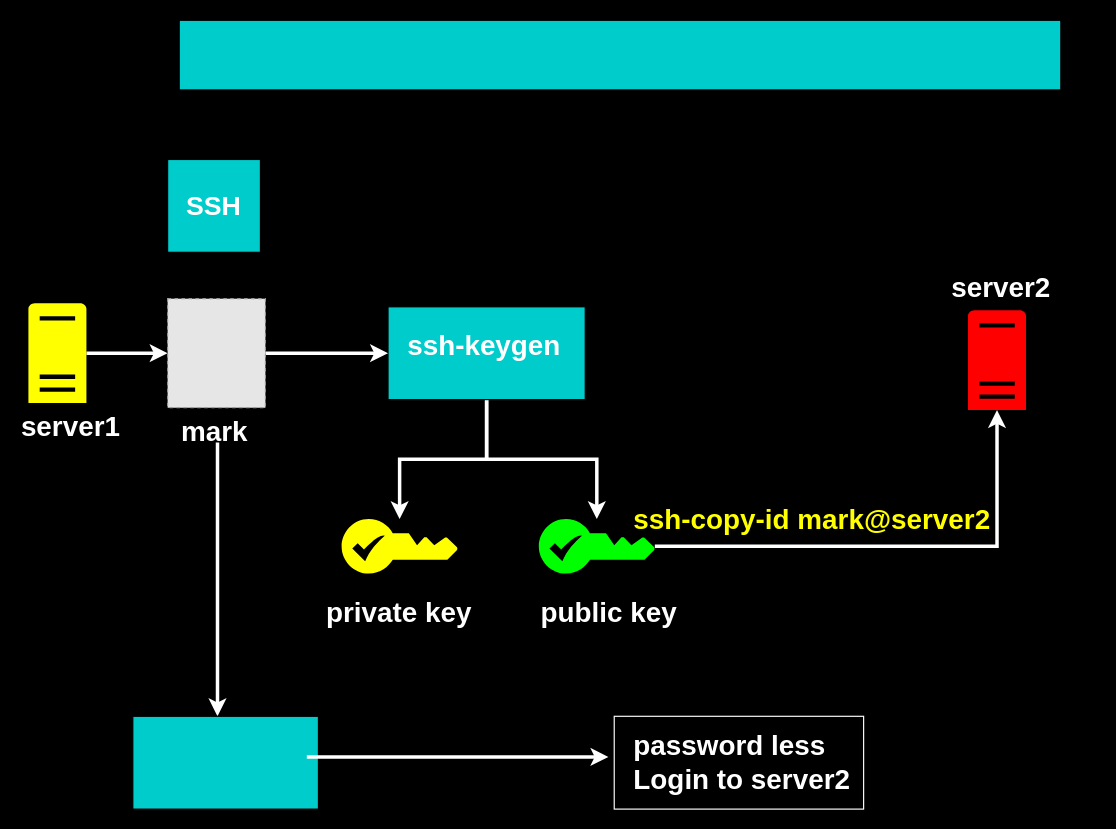
This 1116x829 diagram has some shape labels left out. Grey dashed boxes stand in for pictures. The box of each missing label's shape, as (x1, y1, x2, y2) in pixels:
Password Less Authentication: (178, 19, 1061, 90)
ssh server2: (132, 715, 318, 809)
